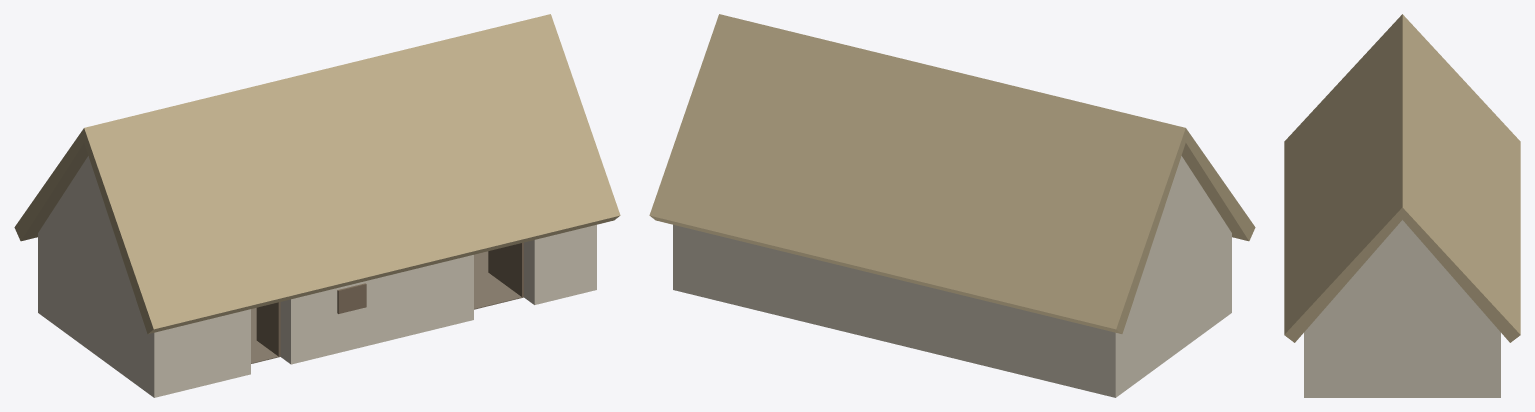
Rendered from cottage-c.glb.
3 views of the same model, side by side, from view 1: azimuth 30°, elevation 25°; view 2: azimuth 150°, elevation 25°; view 3: azimuth 270°, elevation 25° (orthographic). The views are drawn at different scales.
Visible parts, largest first — view 1: cottage-c-thatch, cottage-c-wall, cottage-c-wood, cottage-c-floor; view 2: cottage-c-thatch, cottage-c-wall; view 3: cottage-c-thatch, cottage-c-wall.
Part boxes in pixels (<box>): cottage-c-thatch: <box>14,14,620,333</box>; cottage-c-wall: <box>38,156,596,397</box>; cottage-c-wood: <box>256,242,523,356</box>; cottage-c-floor: <box>251,251,523,363</box>; cottage-c-thatch: <box>649,14,1255,333</box>; cottage-c-wall: <box>673,156,1231,397</box>; cottage-c-thatch: <box>1284,14,1520,342</box>; cottage-c-wall: <box>1304,220,1500,397</box>.
Bounding box in the file's own units: 11.6 × 5.48 × 6.
